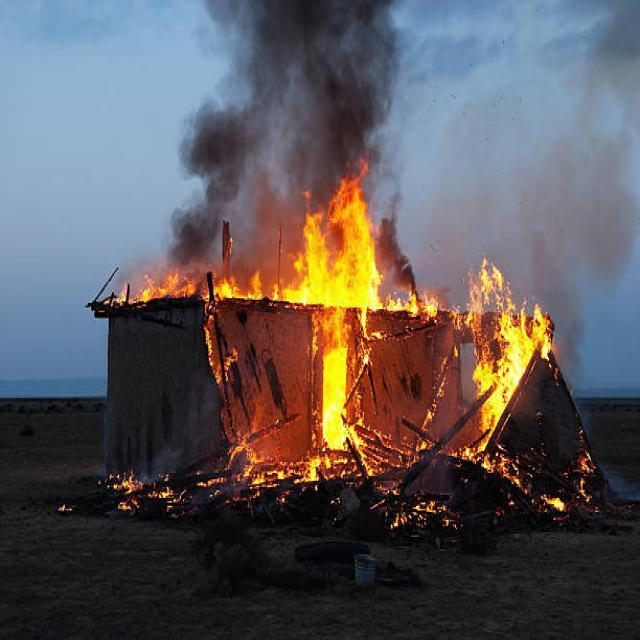Fire: (140, 163, 560, 510)
Smoke: (194, 0, 460, 312)
